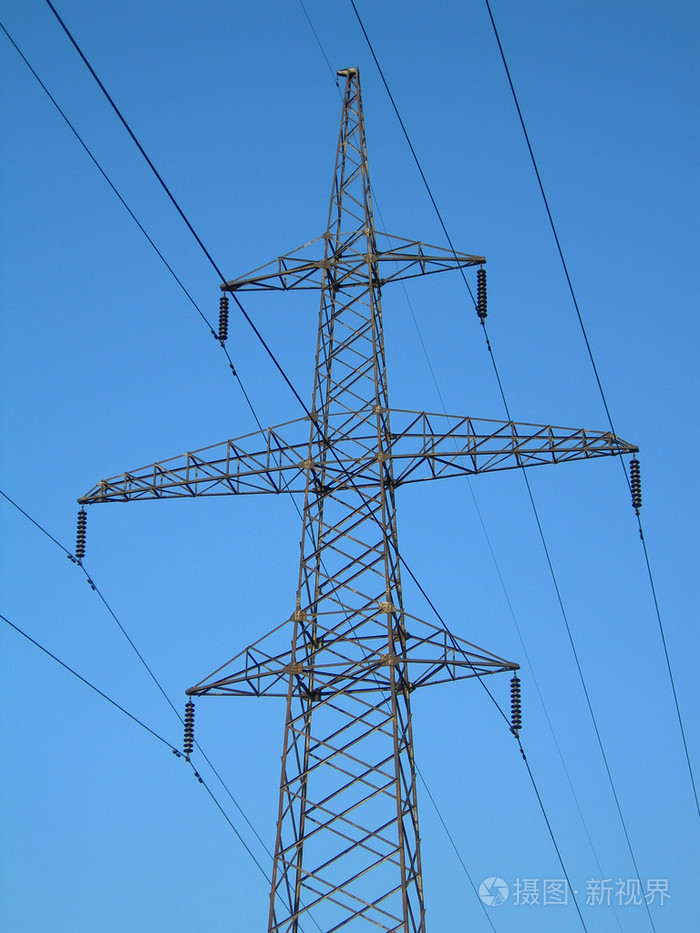insulator: (626, 456, 646, 514), (180, 699, 200, 754), (509, 676, 526, 734), (472, 267, 490, 320), (214, 295, 229, 343), (74, 508, 87, 561)
